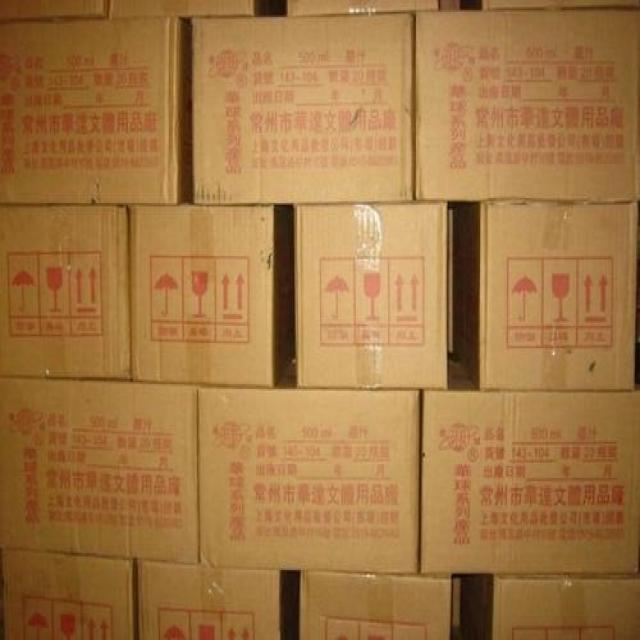box: (198, 358, 420, 573), (419, 358, 639, 573), (192, 10, 416, 205), (416, 9, 640, 203), (0, 377, 200, 563), (0, 15, 189, 205), (462, 203, 639, 393), (127, 205, 294, 387), (293, 201, 453, 389), (0, 205, 133, 382), (3, 550, 138, 640), (137, 560, 282, 640), (468, 573, 640, 640), (300, 570, 452, 640), (287, 0, 461, 17), (110, 0, 266, 17), (0, 0, 109, 22), (483, 0, 640, 10)
